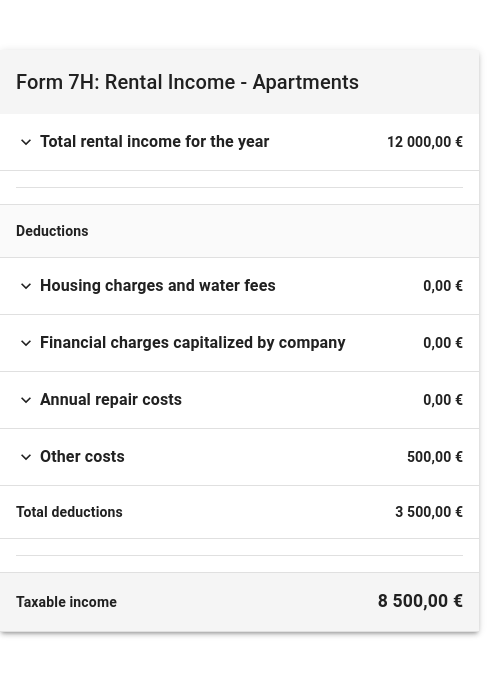
Test case: TaxBreakdown › shows income breakdown when expanding income row
Click the text "Total rental income for the year".
click(155, 142)  # box left=40, top=130, right=270, bottom=154
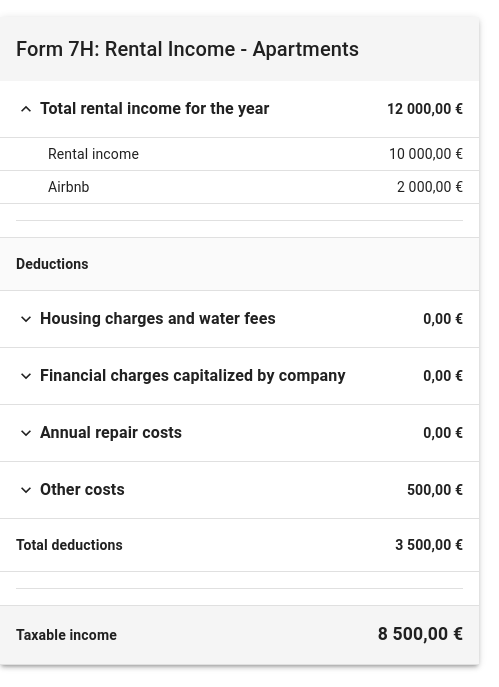
Check: the text "Rental income" is shown, box left=0, top=138, right=284, bottom=171
Check: the text "Airbnb" is shown, box left=0, top=171, right=284, bottom=204
